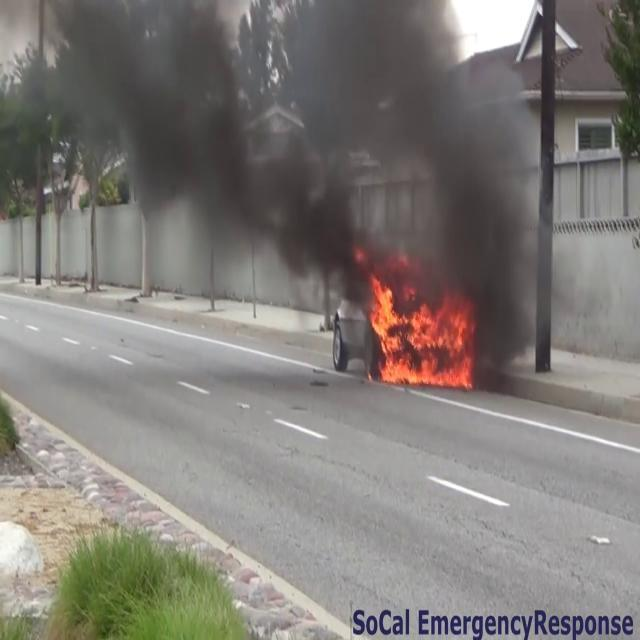Fire: (364, 268, 480, 393)
Smoke: (0, 1, 562, 288)
